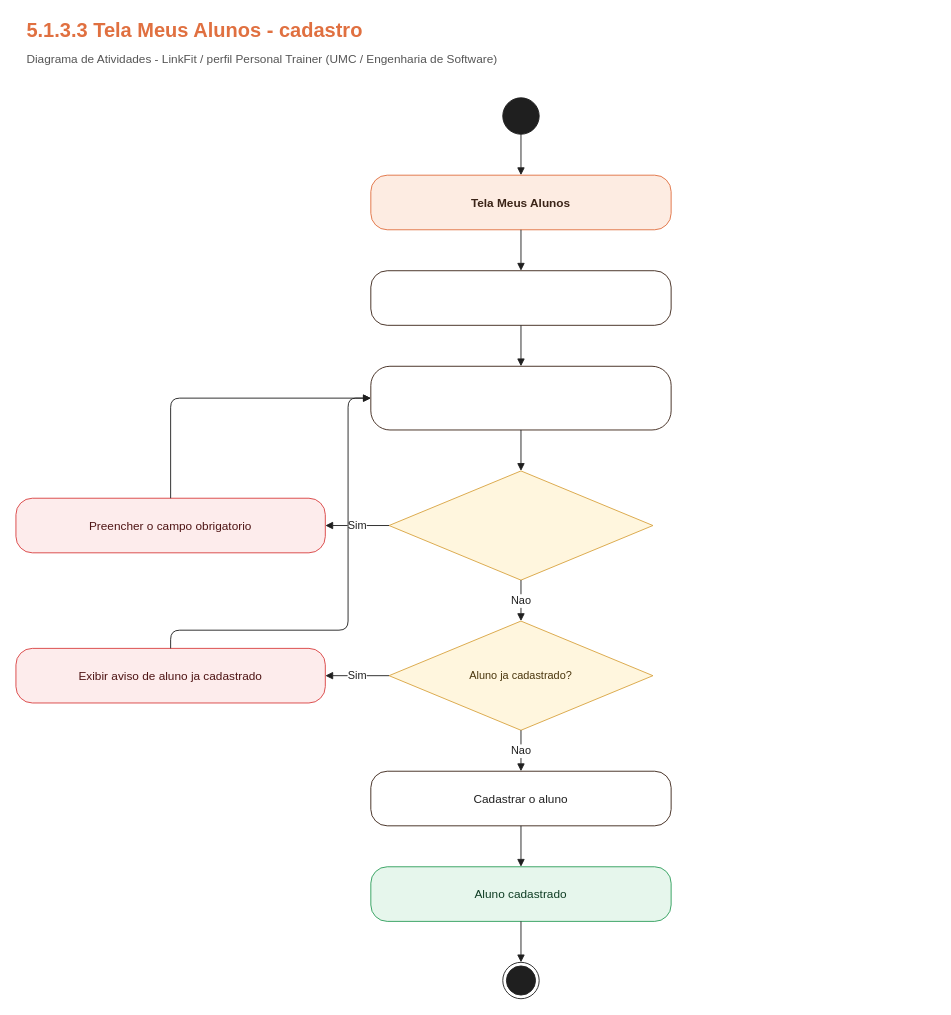
Some shapes in this 951 by 1015 pixel diagram are drawn without their labels. The centre of each missing label's shape, as x and y in pixels:
"Acionar '+ Adicionar Aluno'" belongs at pixel 520 297.
"Campo em branco?" belongs at pixel 520 525.
"Inserir nome, objetivo, e-mail, telefone e foto" belongs at pixel 520 397.
